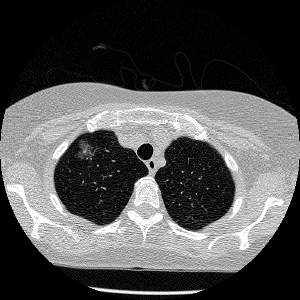nodule: (77, 142, 93, 158)
